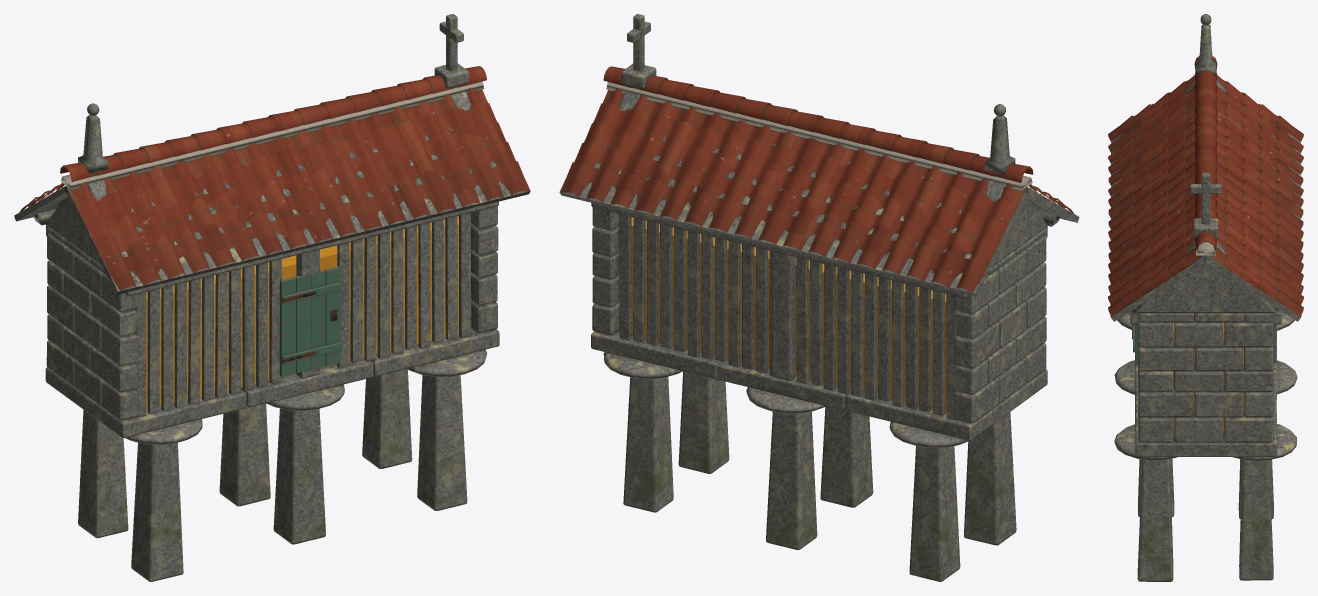
Rendered from horreo.glb.
3 views of the same model, side by side, from view 1: azimuth 30°, elevation 25°; view 2: azimuth 150°, elevation 25°; view 3: azimuth 270°, elevation 25° (orthographic). The views are drawn at different scales.
Parts seen in each view (by area): view 1: HorreoGranite, HorreoRoof, HorreoDetail; view 2: HorreoGranite, HorreoRoof, HorreoDetail; view 3: HorreoGranite, HorreoRoof, HorreoDetail.
Part boxes in pixels (x1,y1,x2,y2): HorreoGranite: (14, 14, 530, 581); HorreoRoof: (19, 66, 529, 290); HorreoDetail: (146, 216, 458, 410); HorreoGranite: (559, 14, 1079, 581); HorreoRoof: (560, 66, 1074, 292); HorreoDetail: (631, 217, 946, 412); HorreoGranite: (1111, 14, 1300, 581); HorreoRoof: (1108, 56, 1303, 316); HorreoDetail: (1132, 313, 1244, 432).
Size of the model in its own units: 6.14 by 6.47 by 2.74.
3 materials, 3 textured.
